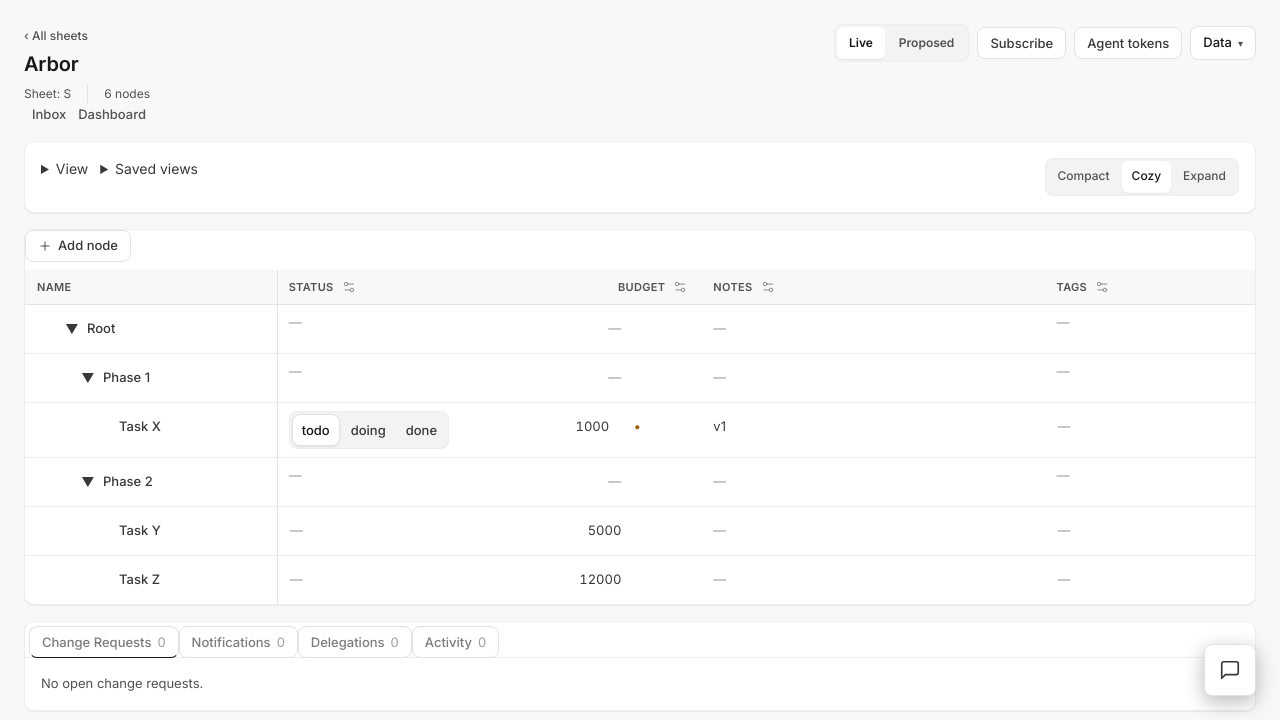
Test: App — snapshot-driven shell wiring › proposed mode shows the PROPOSED cell value (not the real one) with the proposed style
Expected: the table with test id "tree-table" is shown, [25,270,1255,604]
Expected: the element with test id "cell" shows "1000", [576,418,609,434]
Click the button with test id "view-mode-proposed".
click(927, 43)  # box [887,27,966,59]
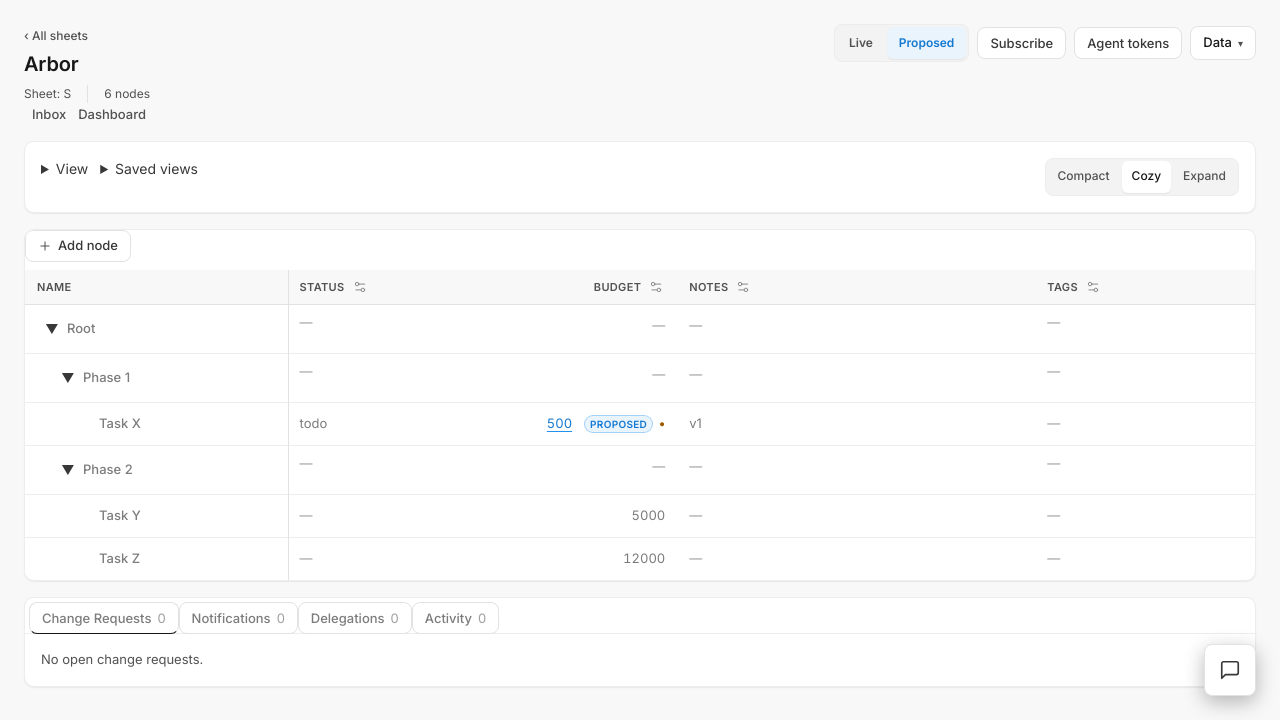
Expected: the element with test id "cell" shows "500", [547,415,572,431]
Expected: the element with test id "cell" no longer shows "1000", [547,415,665,433]
Expected: the text "proposed" is shown, [584,415,653,433]
